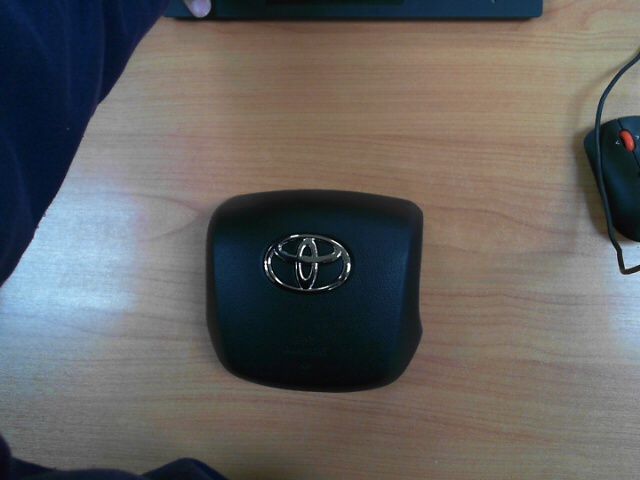Airbag: (207, 187, 423, 390)
